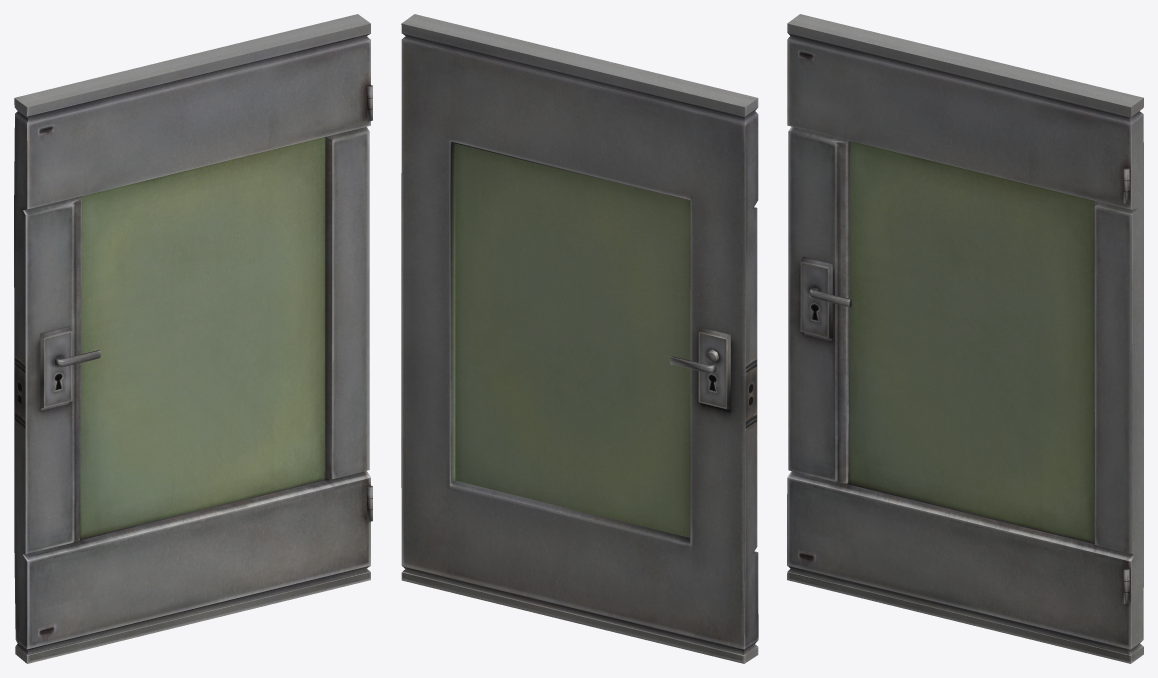
Rendered from swingdoor_waitroom.dae.
The picture shows the model from 3 angles, left to right: view 1: azimuth 30°, elevation 25°; view 2: azimuth 150°, elevation 25°; view 3: azimuth 330°, elevation 25°; orthographic projection.
Visible parts, largest first — view 1: swingdoor_waitroom; view 2: swingdoor_waitroom; view 3: swingdoor_waitroom.
Boxes of the visible parts, bbox=[...] form: swingdoor_waitroom: bbox=[14, 14, 372, 663]; swingdoor_waitroom: bbox=[401, 14, 758, 663]; swingdoor_waitroom: bbox=[787, 14, 1143, 663].
Size of the model in its own units: 175 by 270 by 22.63.
